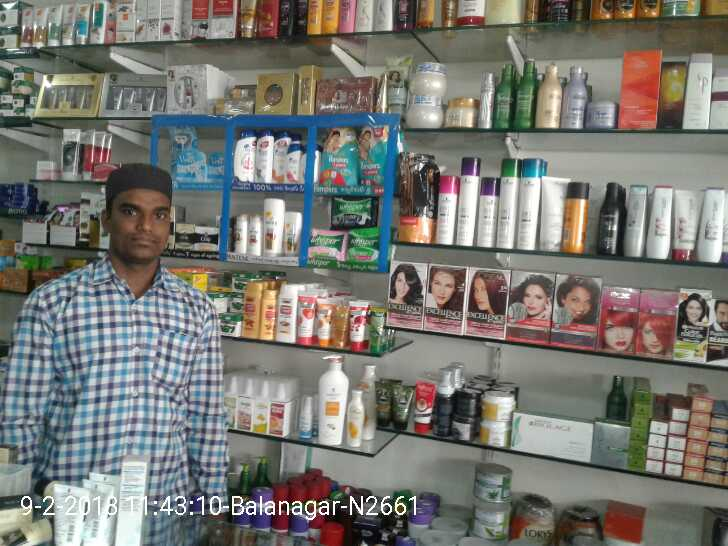venus: (174, 153, 208, 181), (171, 124, 193, 147), (208, 152, 225, 181)
